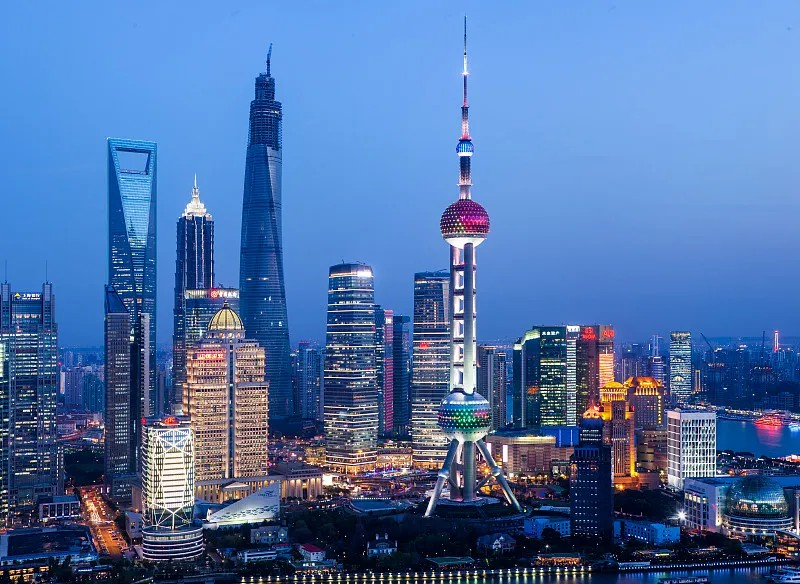Oriental: (424, 14, 521, 516)
